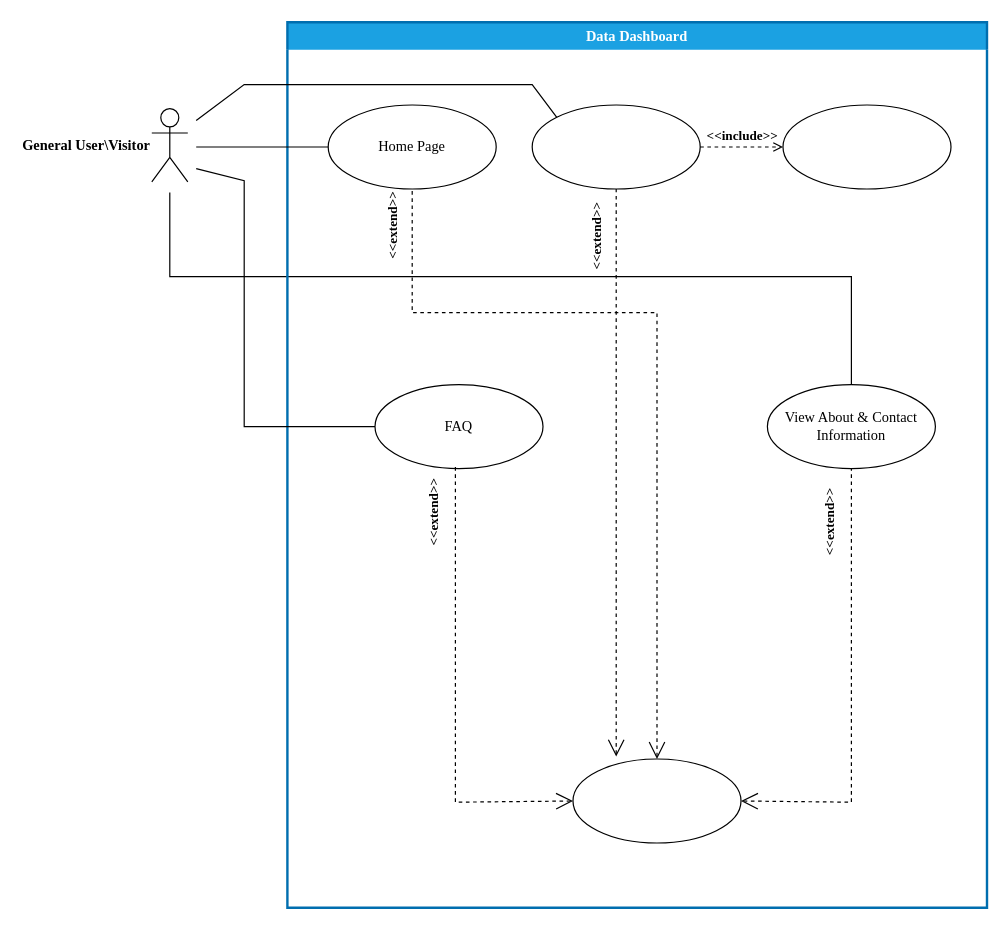
Image size: 1008x929. Some labels were removed from this diagram. The centre of each missing label's shape, as x and y in pixels:
Explore (Data Visualization): pixel 615 146
Switch Visualizations: pixel 866 146
Toggle Theme: pixel 656 800
